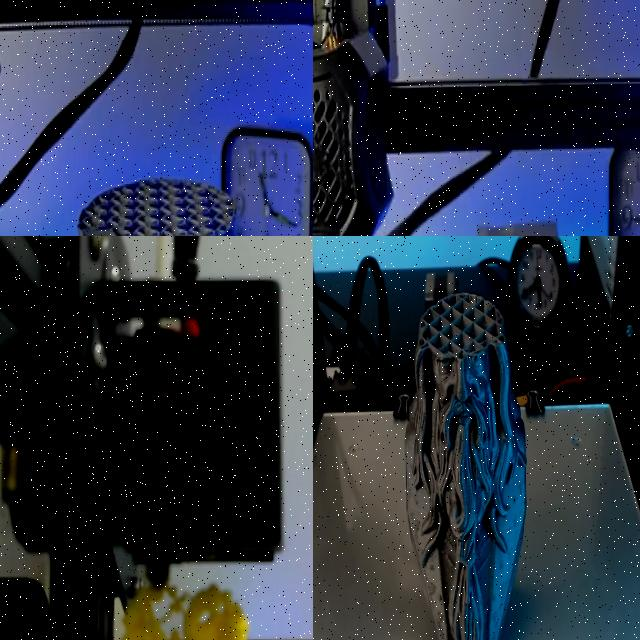spaghetti: (123, 585, 246, 640)
